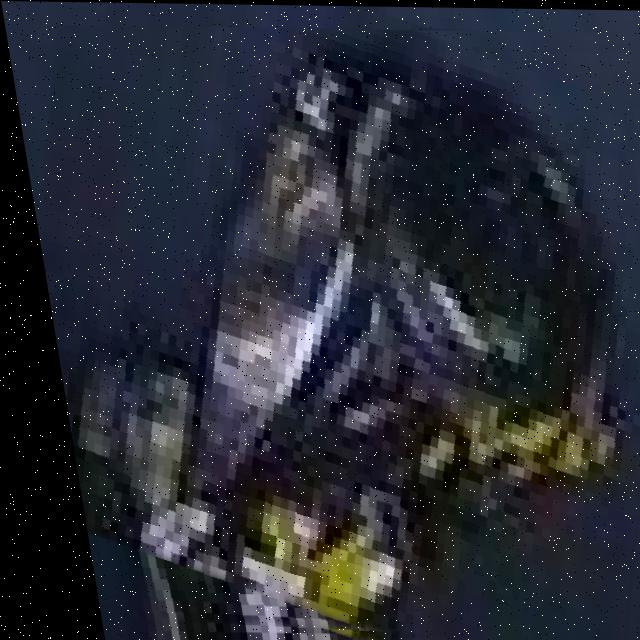litter: (45, 26, 640, 631)
